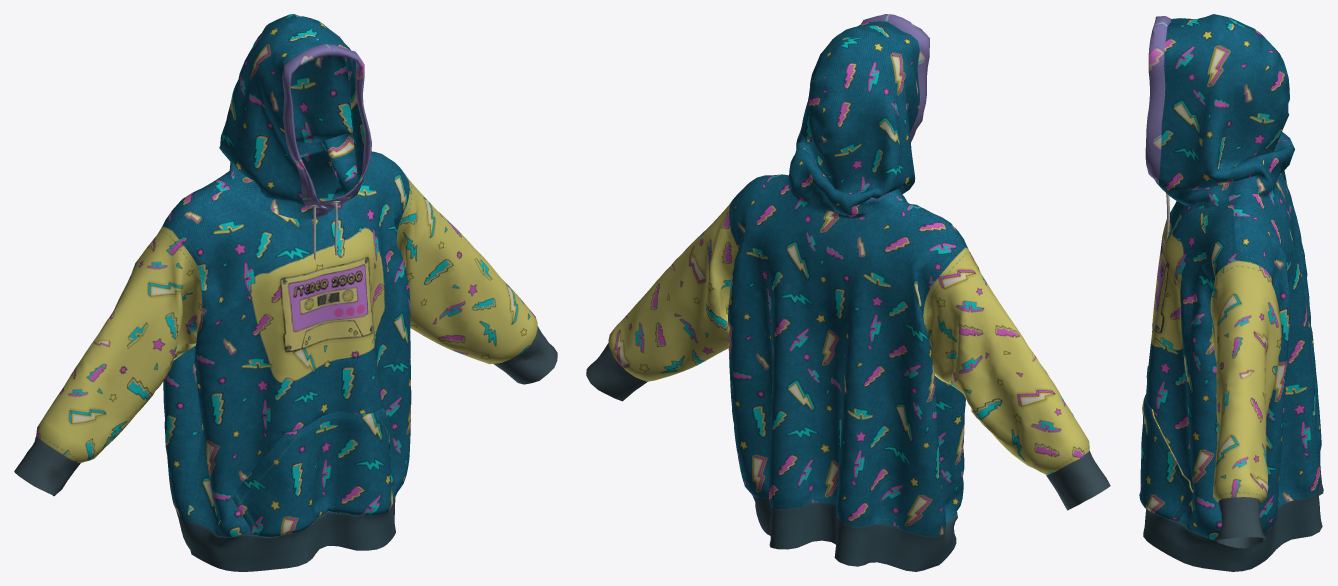
File: cassette-hoodie.glb
3 views of the same model, side by side, from view 1: azimuth 30°, elevation 25°; view 2: azimuth 150°, elevation 25°; view 3: azimuth 270°, elevation 25° (orthographic). The views are drawn at different scales.
Visible parts, largest first — view 1: source_mesh_4, source_mesh_6; view 2: source_mesh_4, source_mesh_6; view 3: source_mesh_4, source_mesh_6.
Part boxes in pixels (<box>): source_mesh_4: <box>36,14,537,536</box>; source_mesh_6: <box>14,326,557,571</box>; source_mesh_4: <box>608,14,1089,536</box>; source_mesh_6: <box>586,343,1110,571</box>; source_mesh_4: <box>1139,14,1321,539</box>; source_mesh_6: <box>1143,452,1323,571</box>.
Bounding box in the file's own units: 2.66 × 2.5 × 0.8149.
4 materials, 3 textured.
